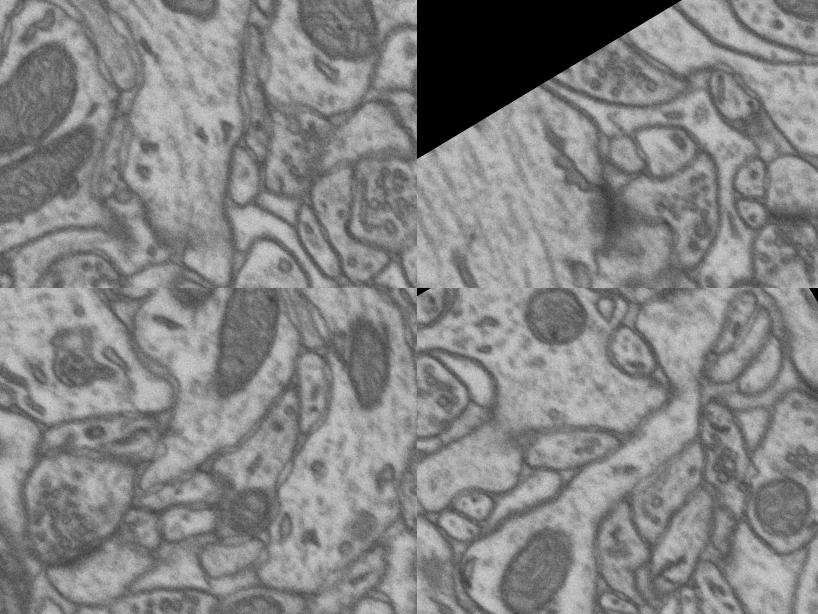mitochondria: (0, 88, 121, 278), (158, 288, 330, 413), (0, 24, 108, 183), (315, 303, 417, 425), (460, 522, 590, 614), (274, 0, 400, 83), (493, 288, 616, 373), (733, 439, 818, 543), (572, 500, 662, 586), (209, 470, 288, 548), (197, 574, 302, 614), (143, 0, 238, 43), (742, 0, 818, 47), (393, 141, 417, 274), (143, 288, 237, 321), (794, 516, 818, 614)
